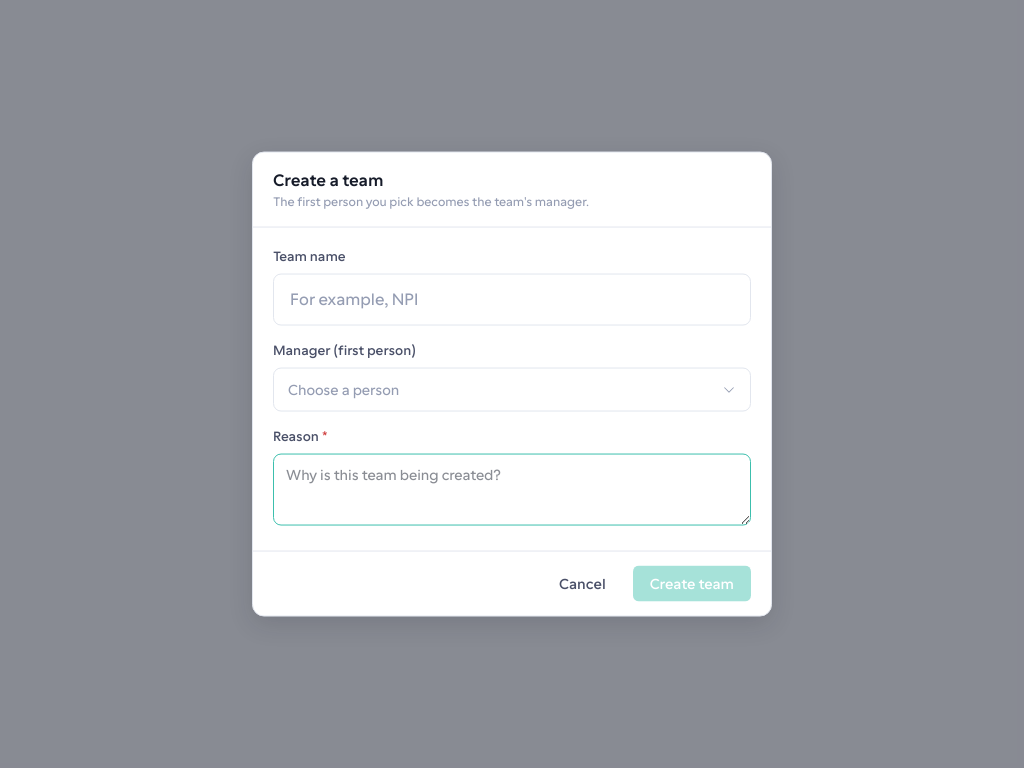
CreateTeamDialog › needs a name
The image size is (1024, 768).
Type "because" into the text box labelled "Reason *". click: x=512, y=490
box: [273,454,751,526]
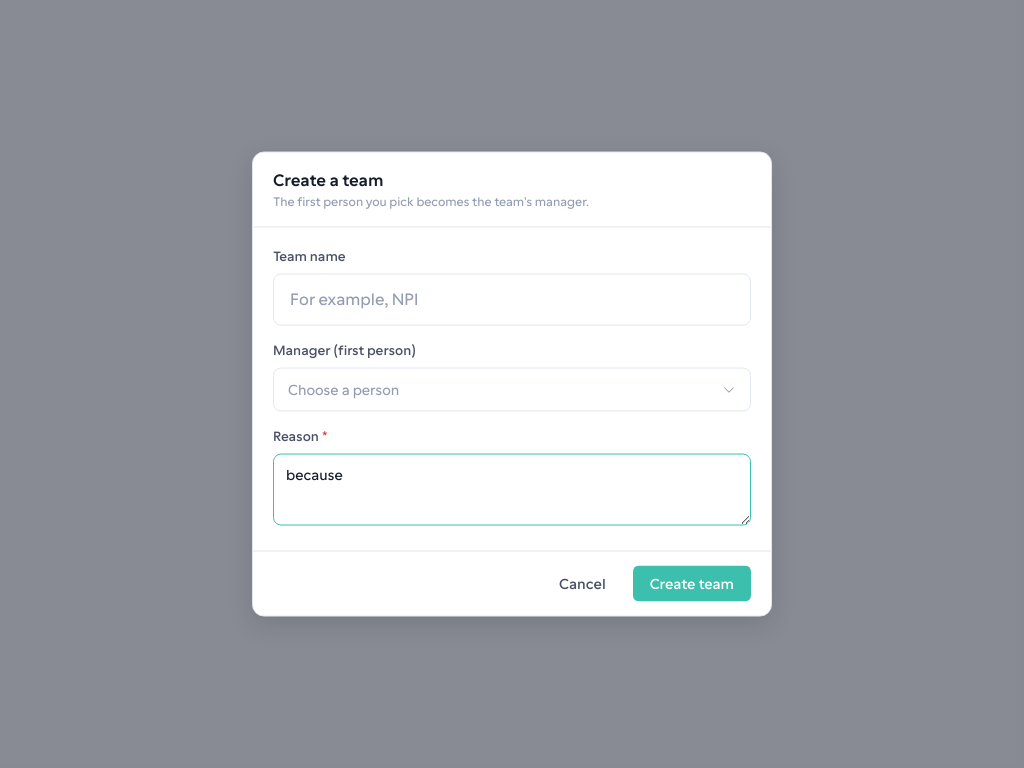
Click the button "Create team". click: x=692, y=584
box: [633,566,751,602]
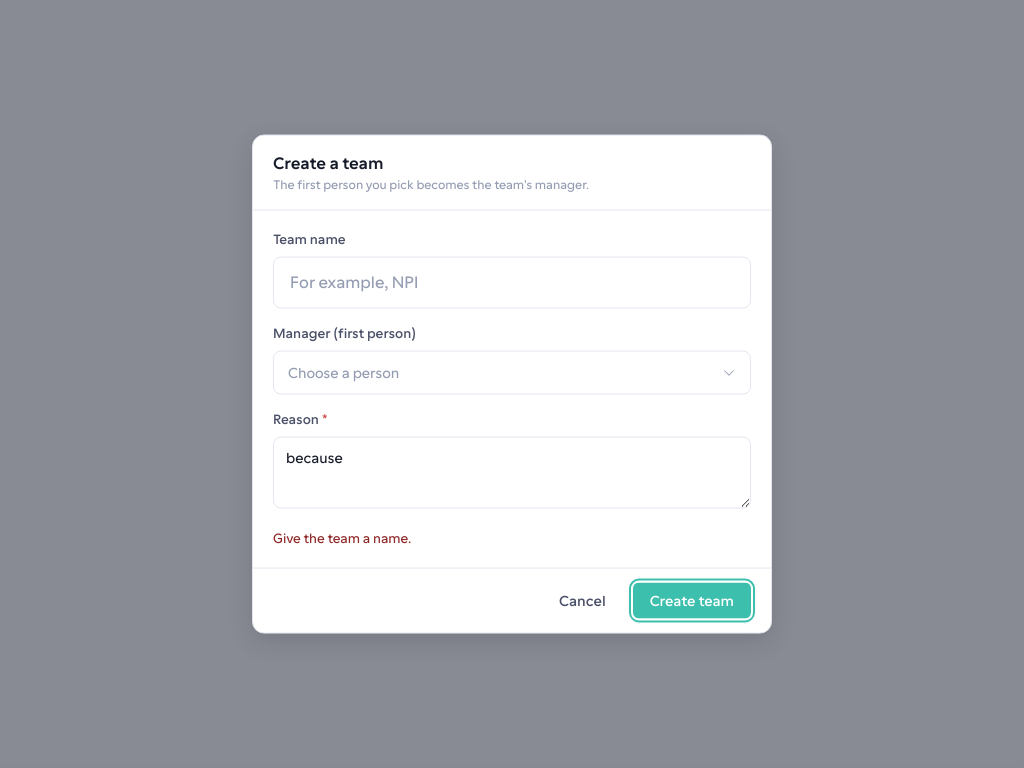
Expected: the message reads "Give the team a name.", [273,530,411,546]
